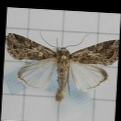Spodoptera litura: (4, 31, 117, 102)
